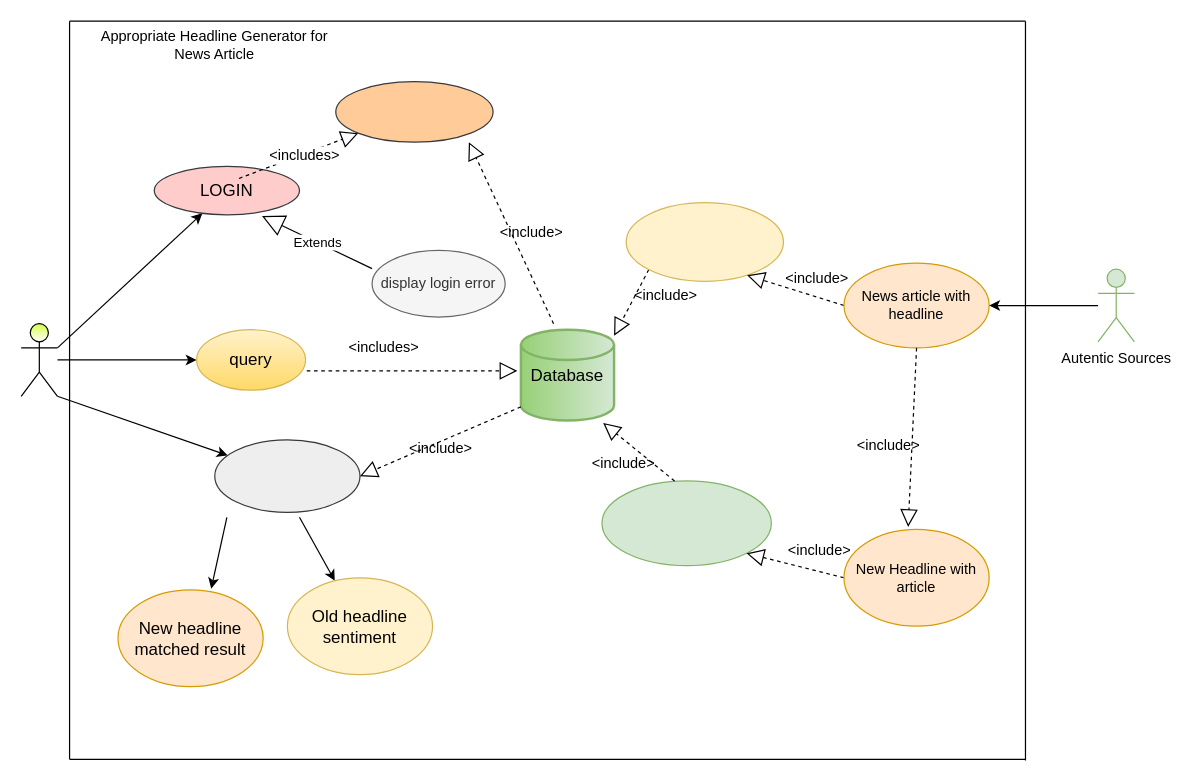
This 1192x783 diagram has some shape labels left out. The centre of each missing label's shape, as x and y in pixels:
New Headline of the article updated: the point at 686,523
Previous Headline Sentiment: the point at 704,241
Result Display: the point at 287,475
user: the point at 38,359
verify Password: the point at 414,111
